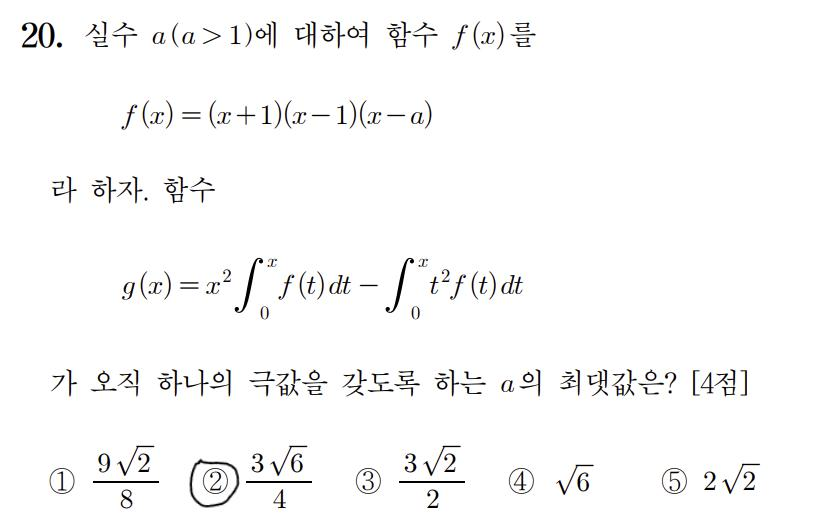1: (187, 458, 242, 512)
paper: (658, 464, 690, 497), (505, 465, 537, 498), (352, 465, 384, 498), (199, 466, 231, 499), (47, 466, 79, 499)
